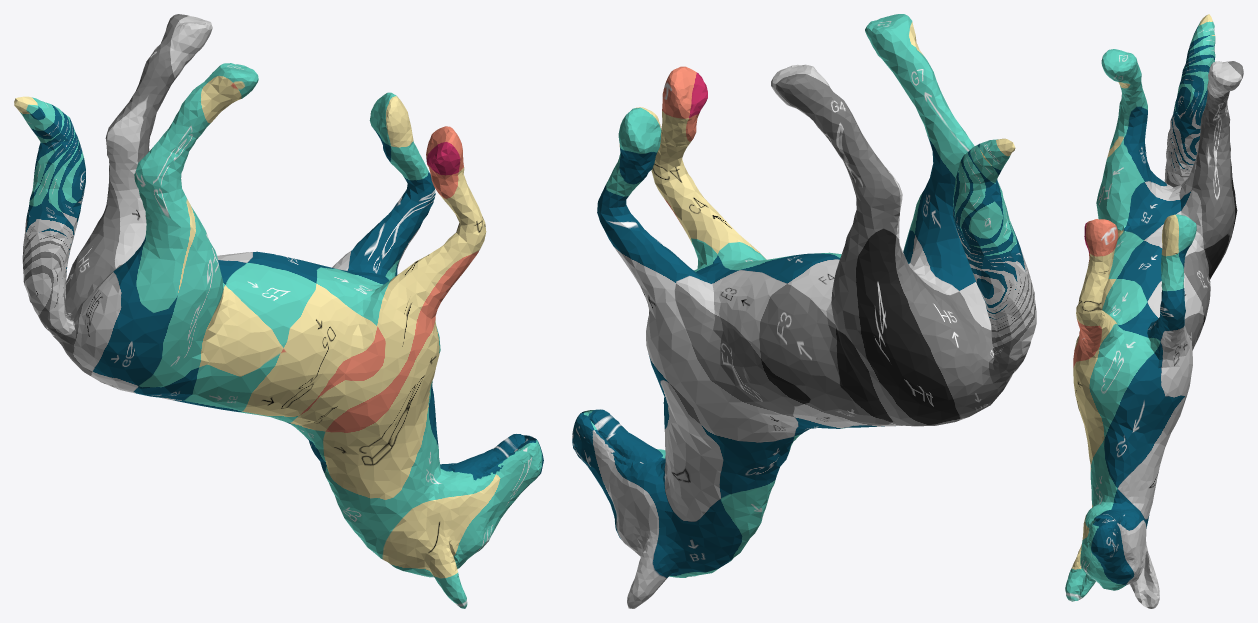
The model's file is hippo_06-horse_08.obj.
3 views of the same model, side by side, from view 1: azimuth 30°, elevation 25°; view 2: azimuth 150°, elevation 25°; view 3: azimuth 270°, elevation 25° (orthographic). The views are drawn at different scales.
Visible parts, largest first — view 1: hippo_06-horse_08_export; view 2: hippo_06-horse_08_export; view 3: hippo_06-horse_08_export.
Part boxes in pixels (bbox=[...]): hippo_06-horse_08_export: bbox=[14, 14, 543, 608]; hippo_06-horse_08_export: bbox=[572, 14, 1036, 608]; hippo_06-horse_08_export: bbox=[1065, 14, 1243, 608].
Bounding box in the file's own units: 0.8288 × 0.9724 × 0.3354.
